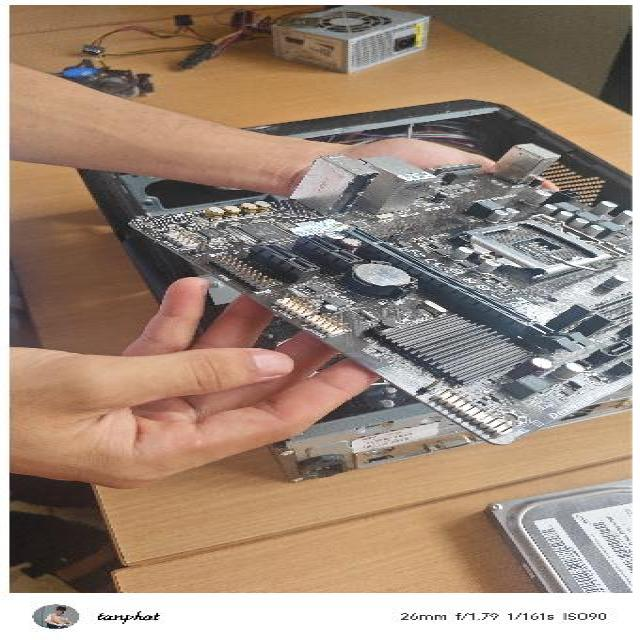DISK: (477, 468, 635, 592)
Mainboard: (118, 141, 640, 448)
PSU: (131, 7, 462, 74)
